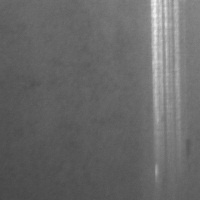scratches: (149, 1, 182, 182)
